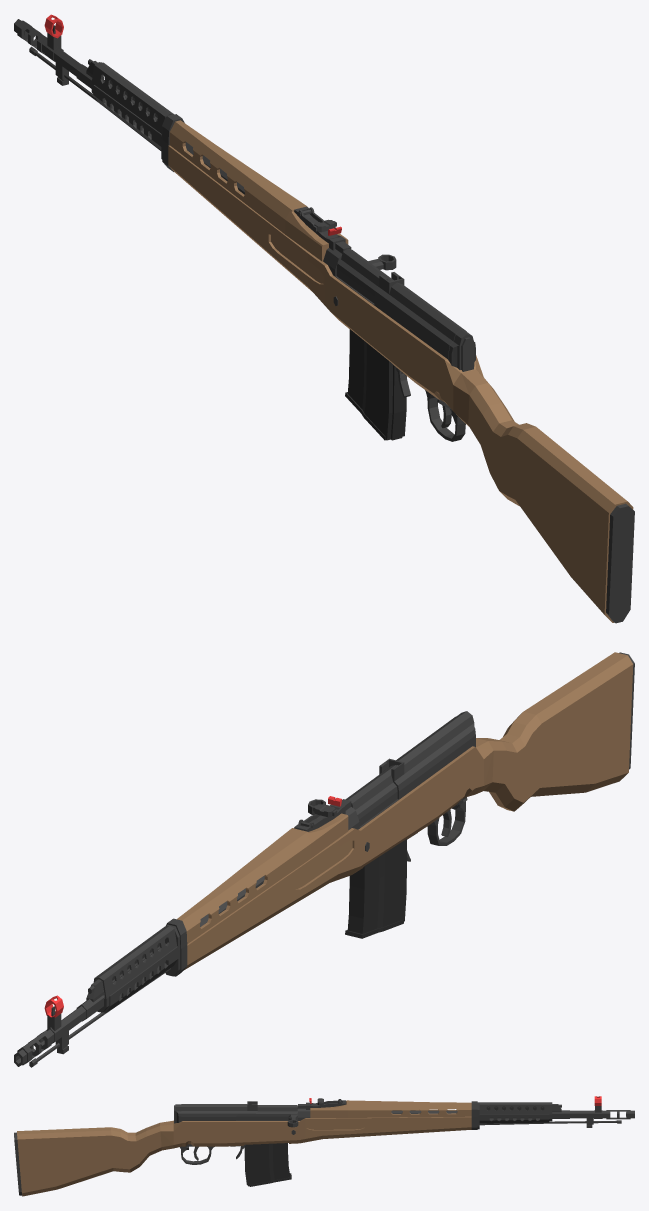
The model's file is fusil_12.glb.
3 renders of one model, top to bottom at view 1: azimuth 30°, elevation 25°; view 2: azimuth 150°, elevation 25°; view 3: azimuth 270°, elevation 25°, orthographic. The views are drawn at different scales.
Parts seen in each view (by area): view 1: p16_accent, p15_accent, p43_mag, p26_paint, p42_paint, p12_paint, p31_paint, p13_paint; view 2: p16_accent, p15_accent, p43_mag, p26_paint, p12_paint, p31_paint, p13_paint, p3_paint, p38_paint, p14_paint; view 3: p16_accent, p15_accent, p43_mag, p26_paint, p12_paint, p31_paint, p13_paint, p3_paint, p2_paint, p14_paint, p42_paint, p17_paint (+2 smaller).
Part boxes in pixels (left/top/right/bottom): p16_accent: left=168, top=145, right=633, bottom=622; p15_accent: left=169, top=120, right=348, bottom=261; p43_mag: left=345, top=329, right=406, bottom=440; p26_paint: left=333, top=275, right=475, bottom=369; p42_paint: left=606, top=503, right=634, bottom=623; p12_paint: left=91, top=62, right=173, bottom=133; p31_paint: left=336, top=248, right=393, bottom=303; p13_paint: left=93, top=83, right=161, bottom=149; p16_accent: left=184, top=652, right=633, bottom=969; p15_accent: left=177, top=813, right=348, bottom=943; p43_mag: left=345, top=839, right=406, bottom=938; p26_paint: left=358, top=711, right=475, bottom=829; p12_paint: left=93, top=925, right=176, bottom=1012; p31_paint: left=345, top=765, right=397, bottom=826; p13_paint: left=103, top=943, right=178, bottom=1012; p3_paint: left=44, top=876, right=264, bottom=1042; p38_paint: left=427, top=797, right=466, bottom=845; p14_paint: left=165, top=918, right=187, bottom=976; p16_accent: left=17, top=1116, right=471, bottom=1196; p15_accent: left=310, top=1100, right=471, bottom=1117; p43_mag: left=244, top=1143, right=291, bottom=1186; p26_paint: left=175, top=1104, right=288, bottom=1123; p12_paint: left=479, top=1102, right=552, bottom=1121; p31_paint: left=236, top=1105, right=297, bottom=1120; p13_paint: left=479, top=1114, right=549, bottom=1123; p3_paint: left=297, top=1109, right=606, bottom=1118; p2_paint: left=479, top=1120, right=621, bottom=1125; p14_paint: left=471, top=1101, right=479, bottom=1129; p42_paint: left=14, top=1132, right=22, bottom=1195; p17_paint: left=306, top=1099, right=346, bottom=1109.
Size of the model in its own units: 0.0686 by 0.2165 by 1.23.
